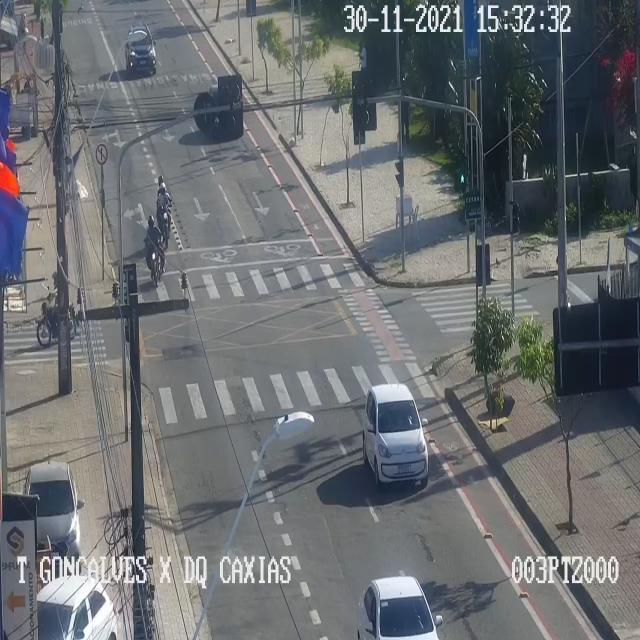Car: (362, 384, 429, 486), (21, 459, 85, 559), (36, 574, 118, 639), (360, 575, 442, 639), (202, 80, 247, 145), (125, 26, 156, 73)
Motorcycle: (37, 292, 77, 348), (143, 216, 166, 286), (156, 174, 172, 247)
